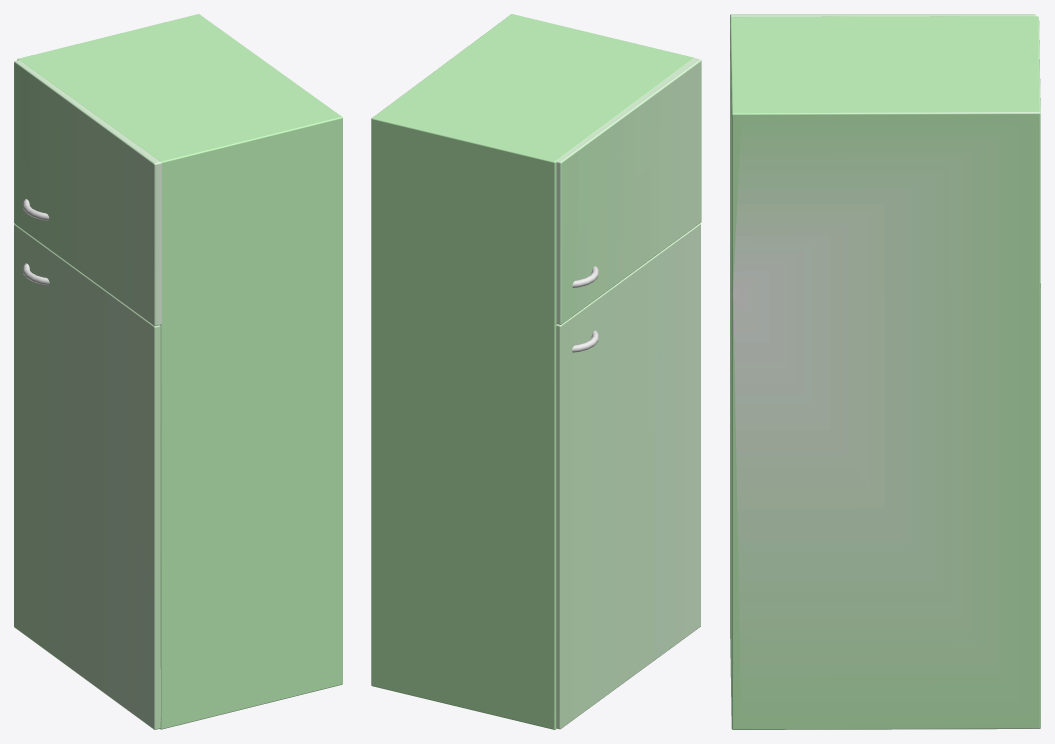
Rendered from fridge.fbx.
The picture shows the model from 3 angles, left to right: view 1: azimuth 30°, elevation 25°; view 2: azimuth 150°, elevation 25°; view 3: azimuth 270°, elevation 25°; orthographic projection. The views are drawn at different scales.
Visible parts, largest first — view 1: polySurface5, polySurface4, polySurface3; view 2: polySurface5, polySurface4, polySurface3; view 3: polySurface5, polySurface3.
Part boxes in pixels (x1,y1,x2,y2): polySurface5: [17, 14, 342, 729]; polySurface4: [14, 224, 160, 729]; polySurface3: [14, 60, 161, 326]; polySurface5: [371, 14, 694, 729]; polySurface4: [556, 223, 700, 729]; polySurface3: [556, 58, 701, 324]; polySurface5: [730, 16, 1040, 729]; polySurface3: [730, 14, 1035, 17].
Bounding box in the file's own units: 1.59 × 4.32 × 1.97.
1 material, 1 textured.
